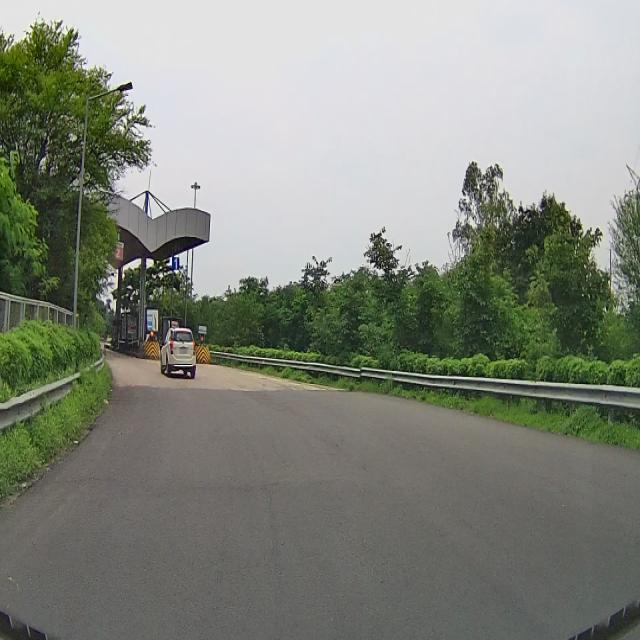car ahead at: (158, 322, 200, 386)
electric pole ahead at: (67, 67, 138, 335)
